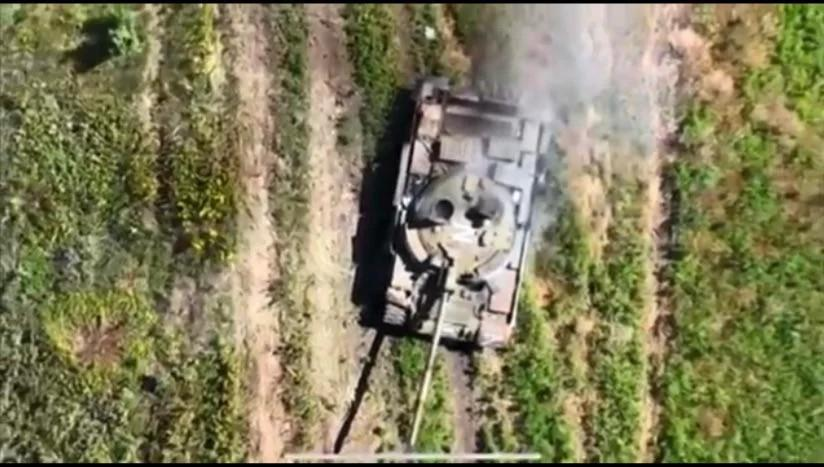tank: (379, 78, 554, 444)
